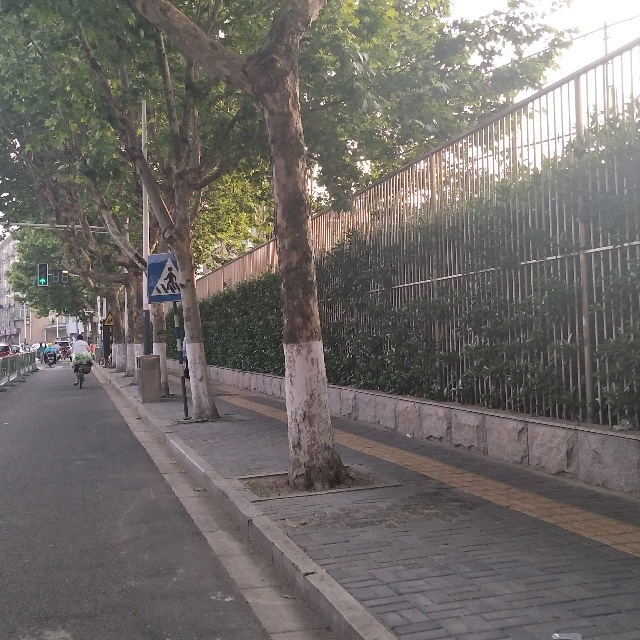crosswalk: (148, 250, 187, 304)
